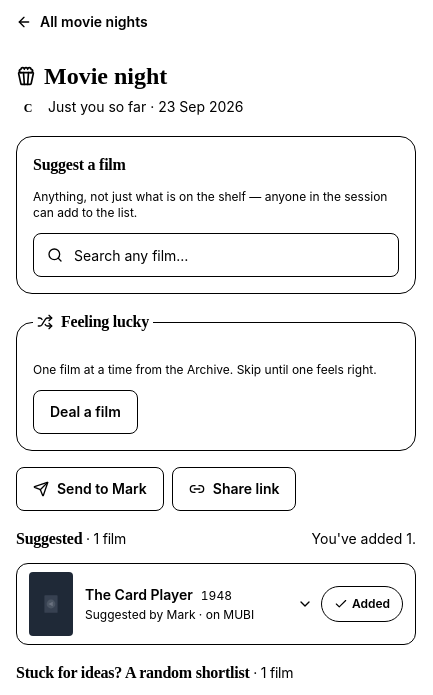
Test: MovieNightSessionPage › sends the night to the other person in one tap — snag 11
Click the button "Send to Mark" at point(90, 489), box [16, 467, 164, 511]
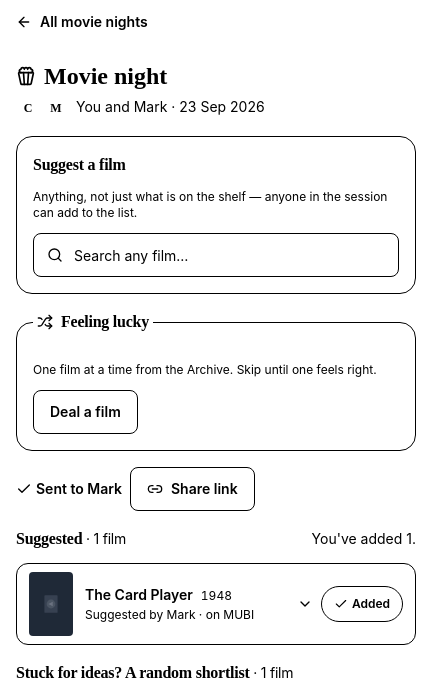
Result: the text "Sent to Mark" is shown at [16, 479, 122, 499]
Result: the button "Send to Mark" is gone
